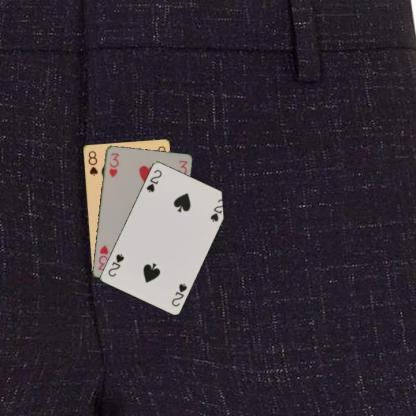2s: (144, 167, 163, 194), (169, 281, 188, 307)
3h: (106, 150, 120, 178)
8s: (85, 148, 99, 177)
